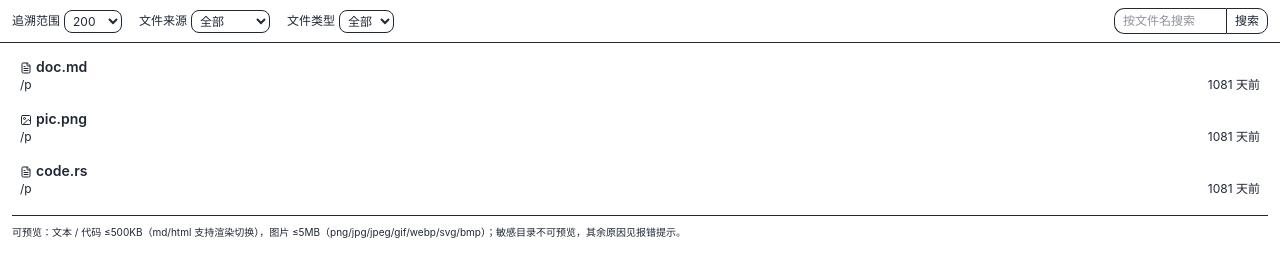
Test case: FilePanel 文件类型下拉（用户裁决 5，原 chips 改下拉） › 切「图片」：仅 png 可见
Select "图片" in the dropdown with test id "file-kind-select" at (366, 21), box [339,10,394,32]
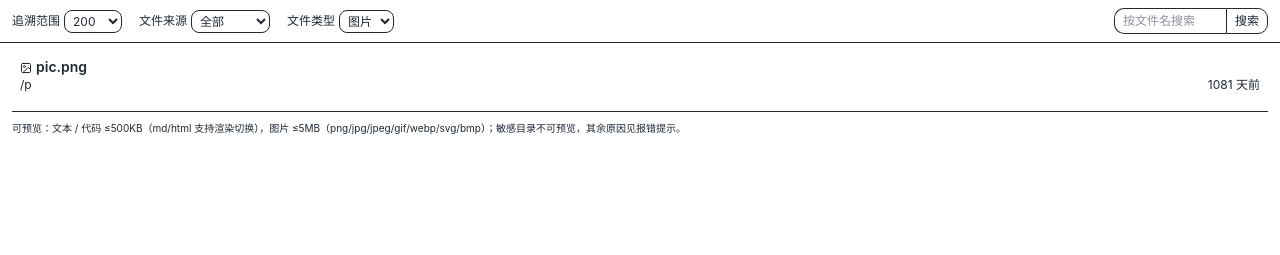
Expected: the button "pic.png" is shown, [20,57,1260,77]
Now the button "doc.md" is gone
Now the button "code.rs" is gone
